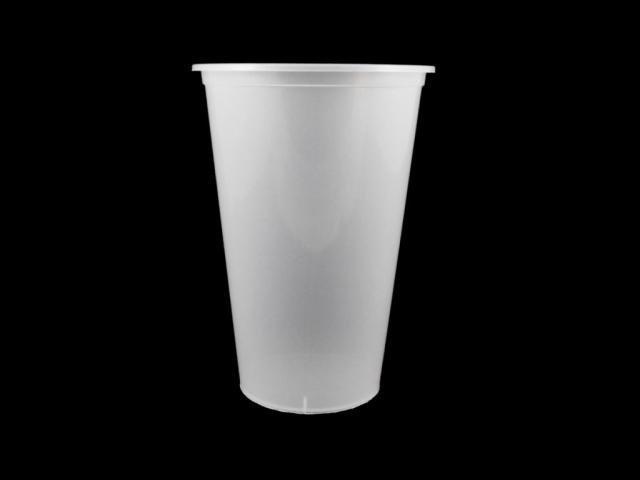cup: (192, 64, 435, 413)
